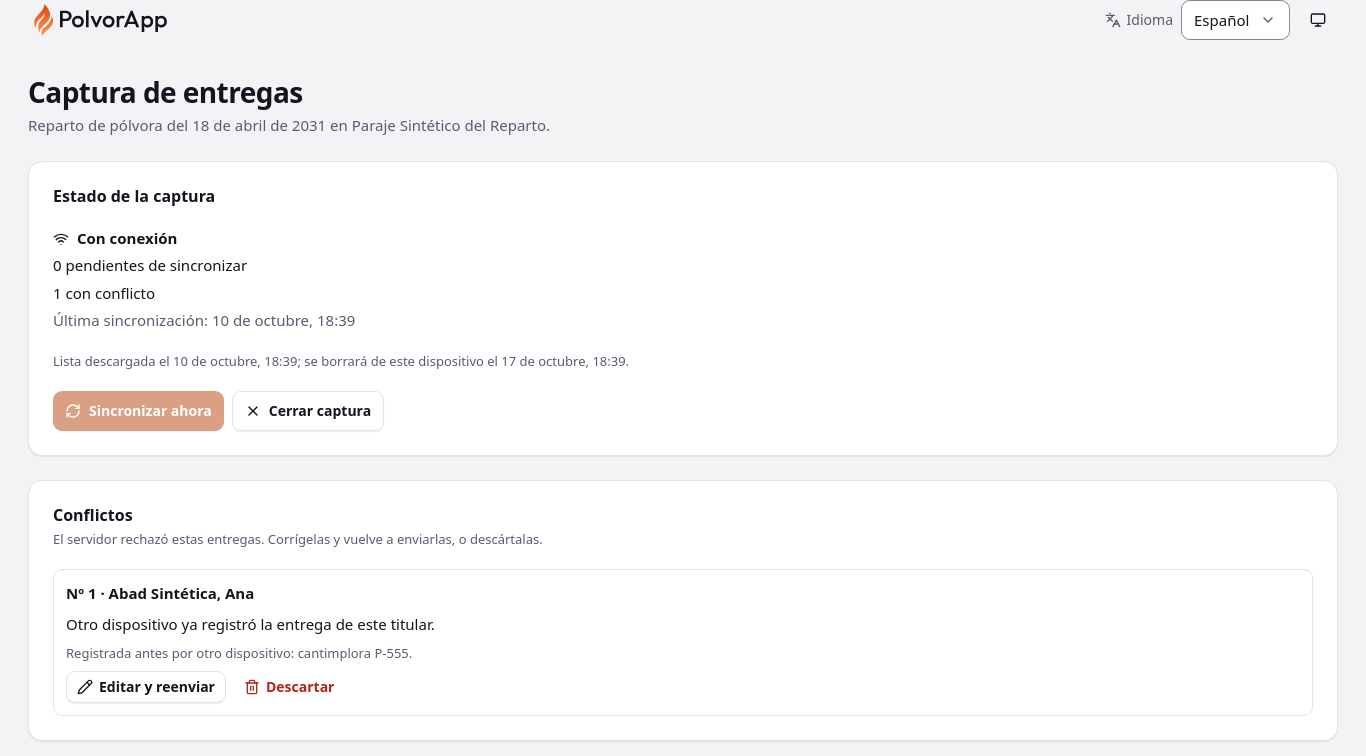
Test: Capture screen (spec: Handover screens) › lists the conflicts with their reason and the handover recorded first, and discards one
The image size is (1366, 756).
Expected: the text "Otro dispositivo ya registró la entrega de este titular." is shown, [66,614,435,634]
Expected: the text "Registrada antes por otro dispositivo: cantimplora P-555." is shown, [66,644,412,662]
Click the button "Descartar".
click(289, 687)  # box [234,671,344,703]
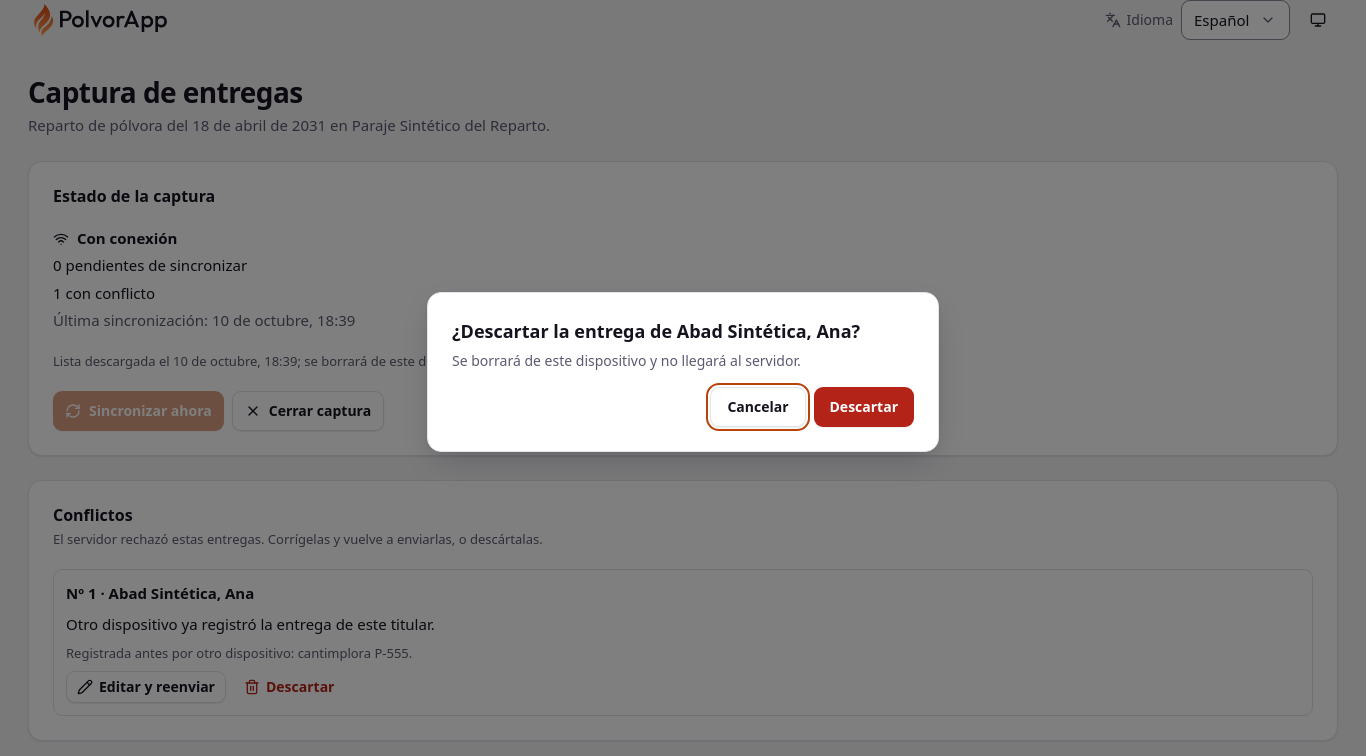
Click the button "Descartar".
click(864, 407)  # box [814,387,914,427]
(page scrolled)
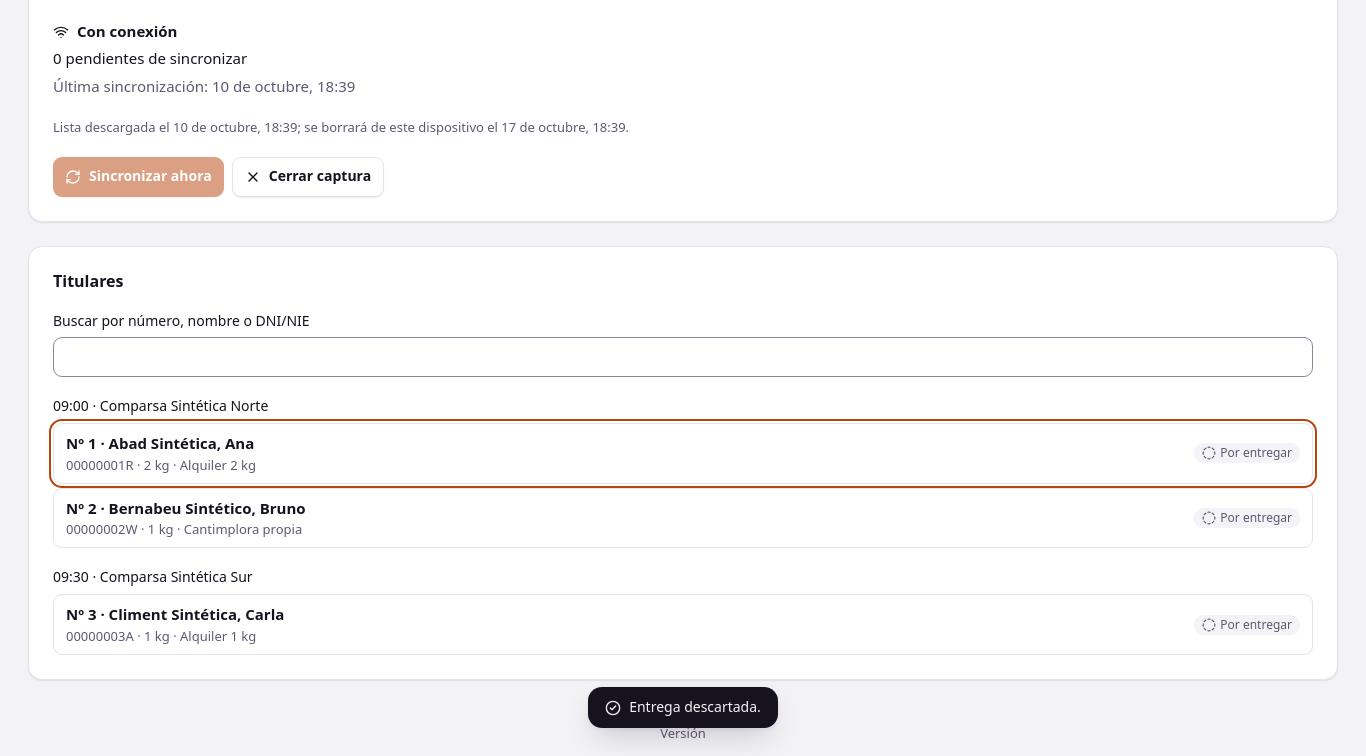
Result: the heading "Conflictos" is gone
